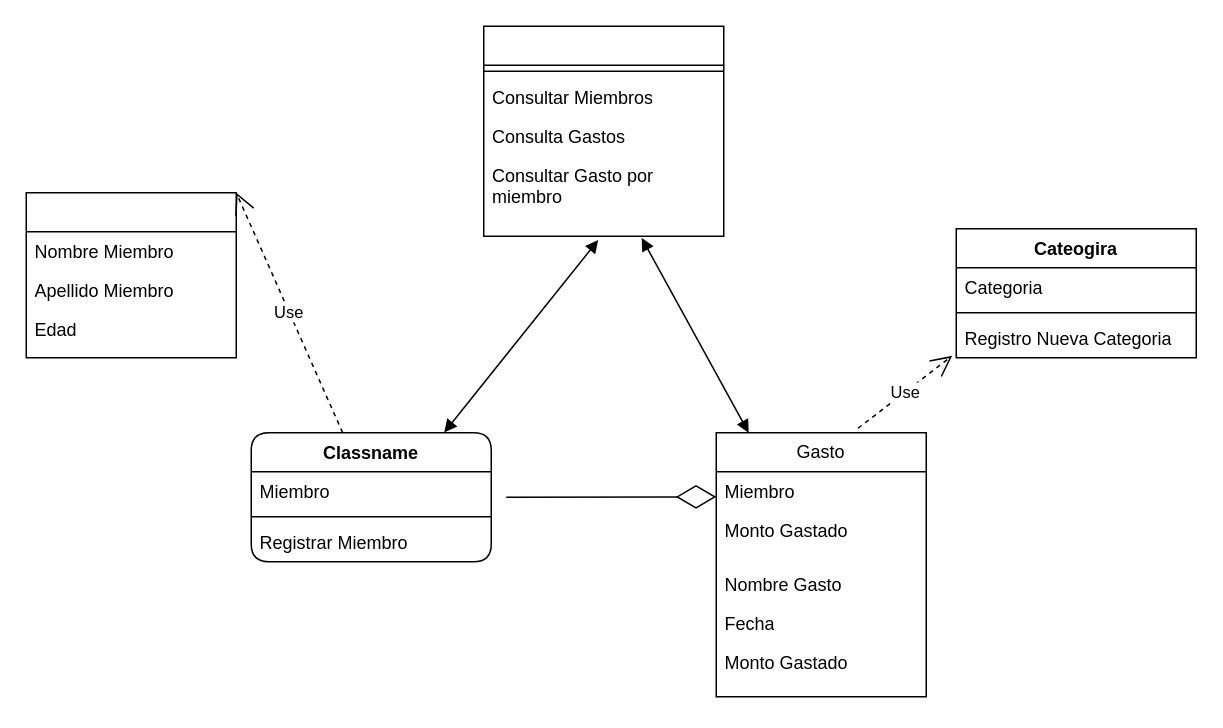
This 1223x728 diagram has some shape labels left out. Each missing label, with the box of its shape:
Menu: (482, 25, 724, 236)
Persona: (25, 191, 236, 358)
